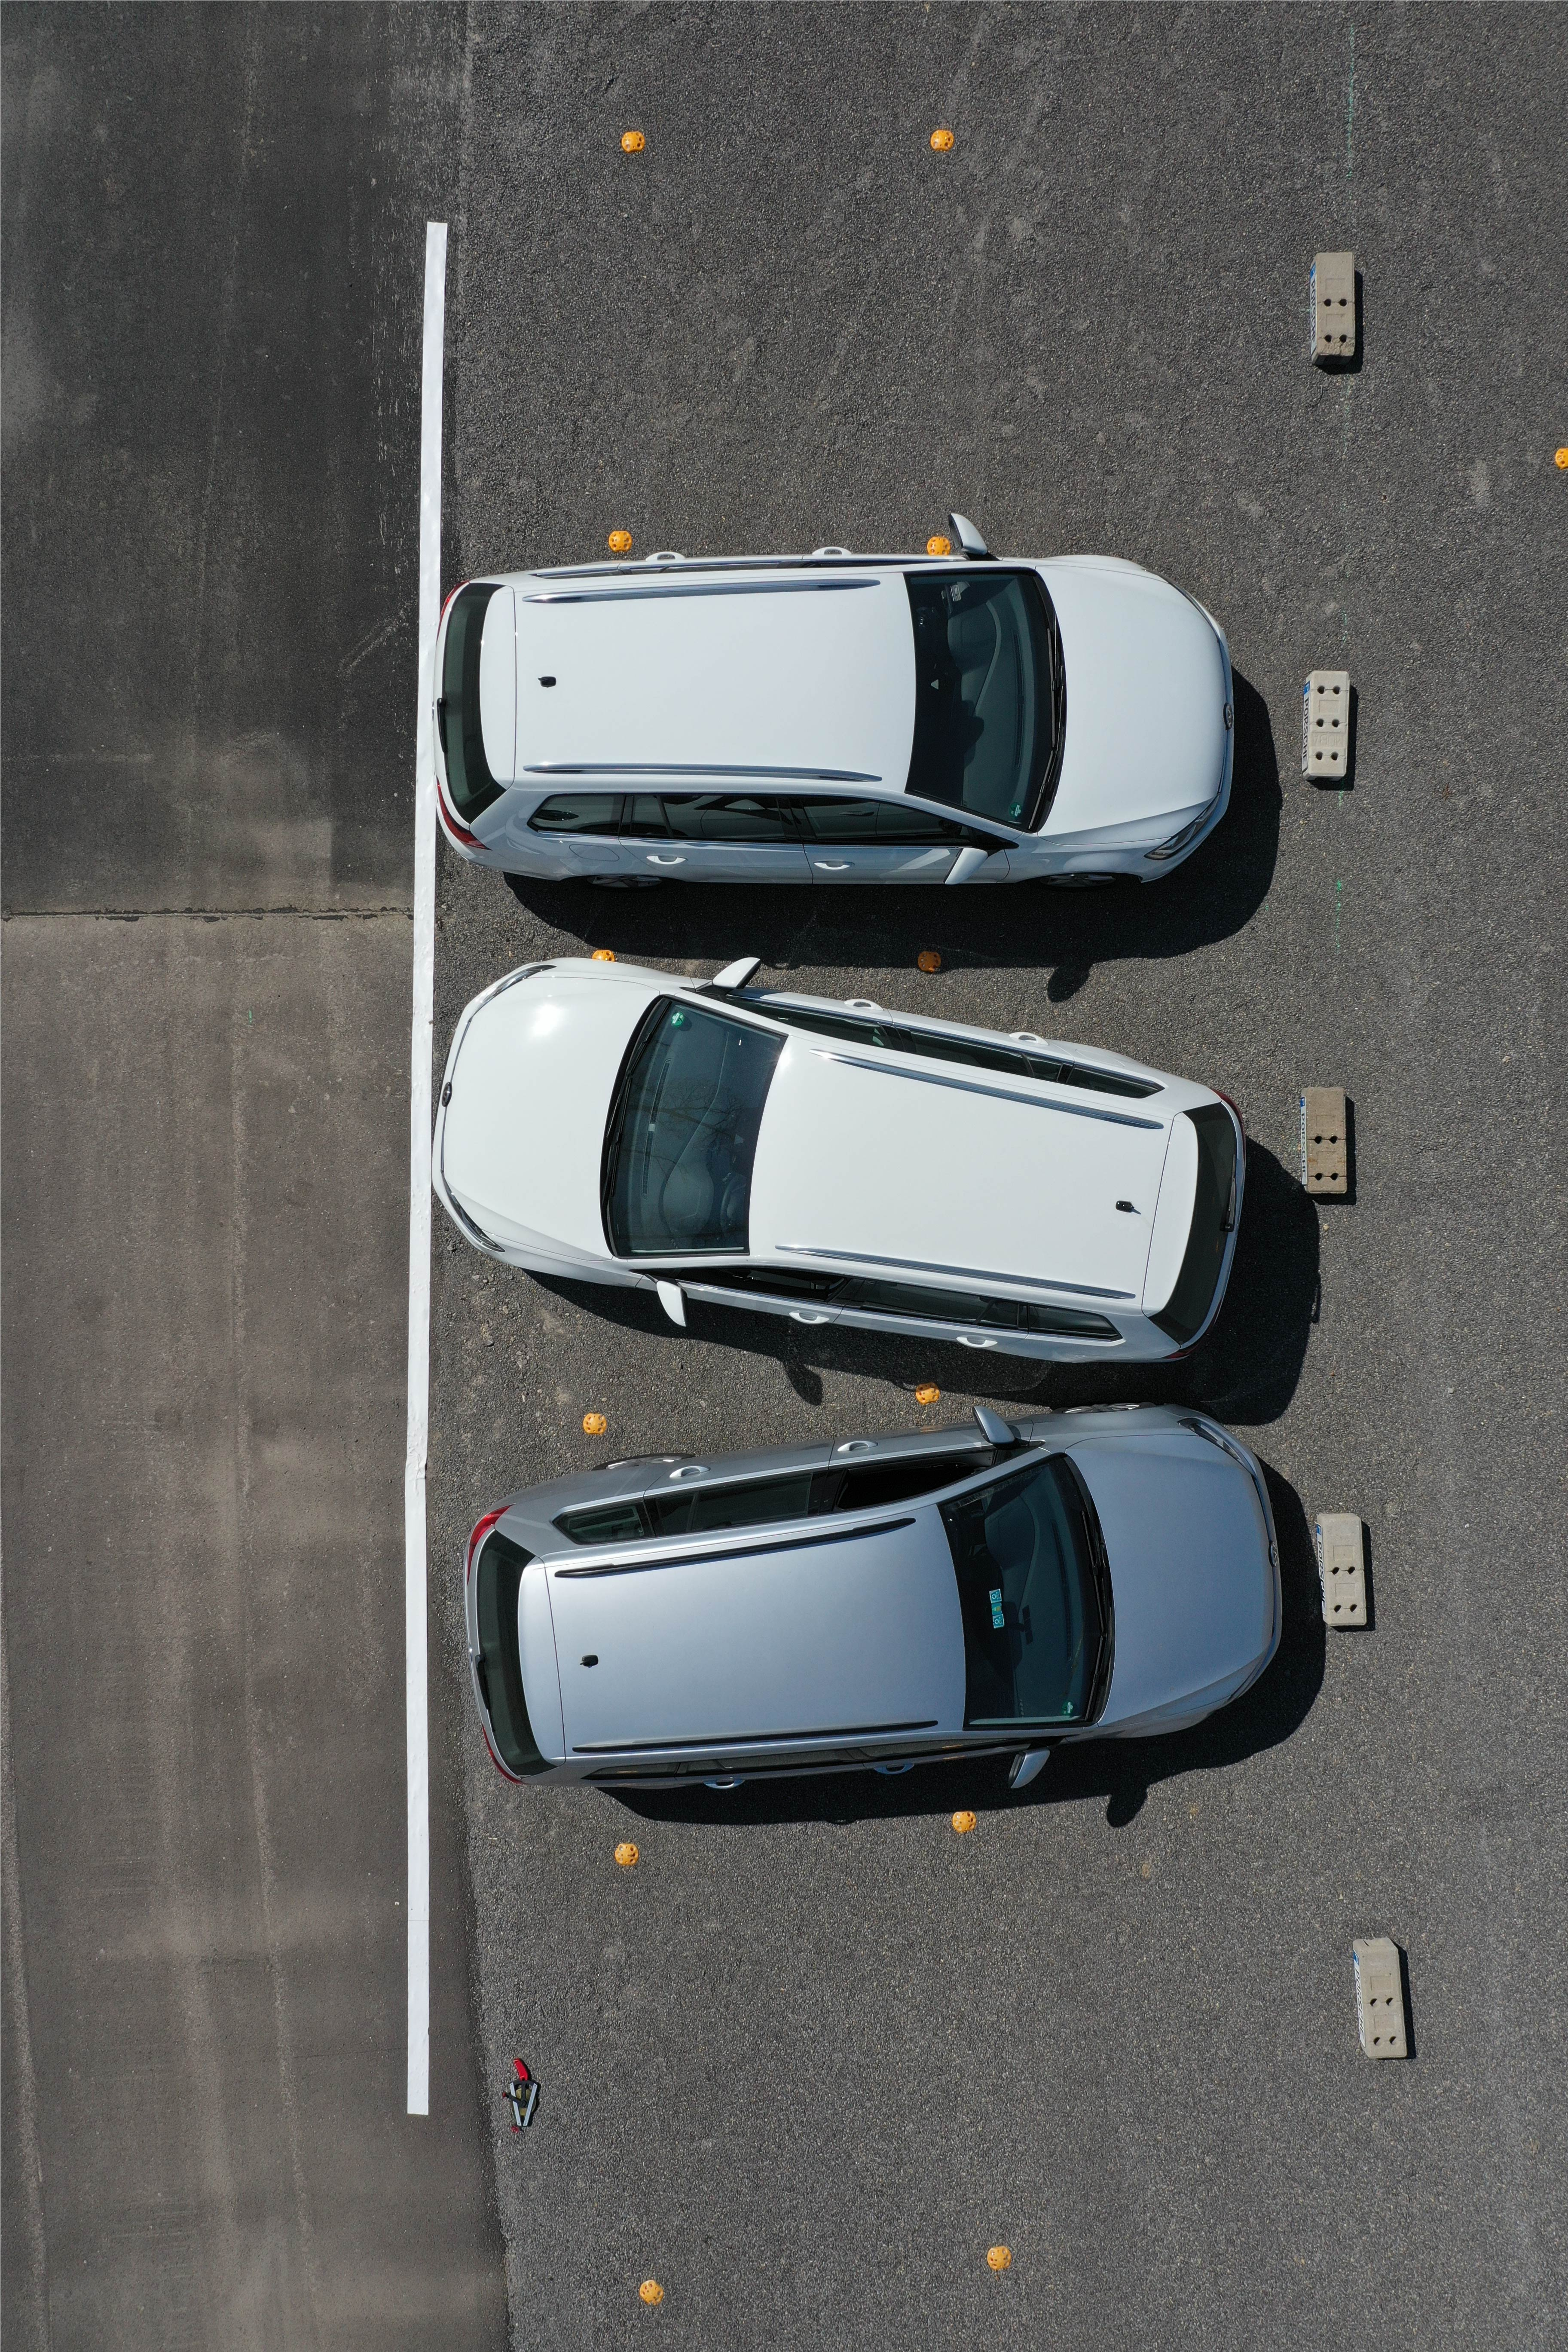Car: (465, 1403, 1321, 1825), (429, 941, 1246, 1382), (437, 514, 1274, 908)
LaneMark: (394, 219, 455, 2123)
